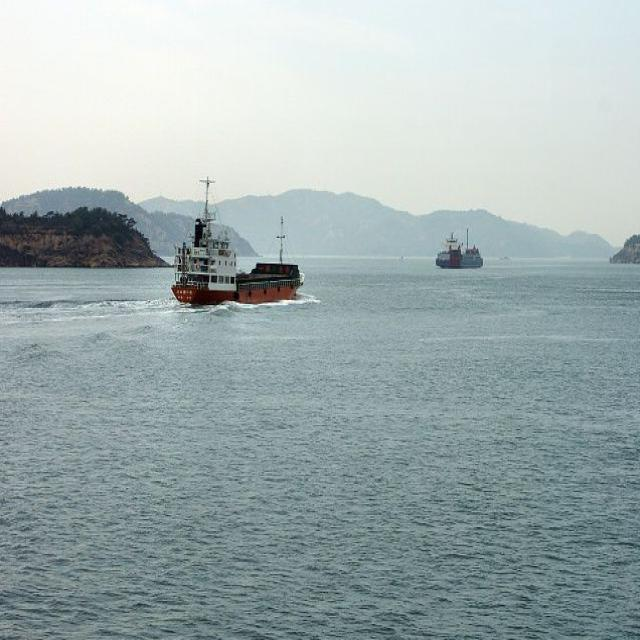cargoship: (172, 190, 304, 306), (435, 228, 483, 269)
